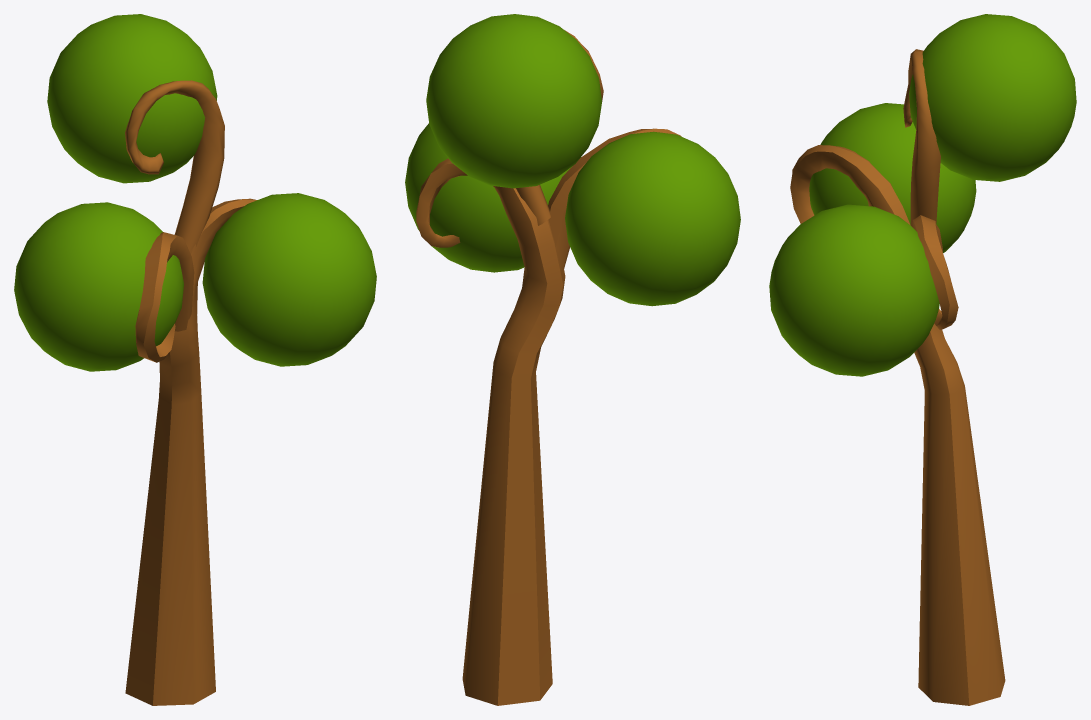
File: tree_03.FBX
3 renders of one model, left to right at view 1: azimuth 30°, elevation 25°; view 2: azimuth 150°, elevation 25°; view 3: azimuth 270°, elevation 25°, orthographic. The views are drawn at different scales.
Parts seen in each view (by area): view 1: tree_03; view 2: tree_03; view 3: tree_03.
Part boxes in pixels (x1=…): tree_03: x1=14, y1=14, x2=376, y2=705; tree_03: x1=405, y1=14, x2=740, y2=705; tree_03: x1=769, y1=14, x2=1076, y2=705.
Size of the model in its own units: 439 by 866 by 369.
